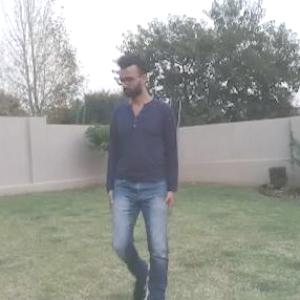follow: (100, 49, 180, 299)
